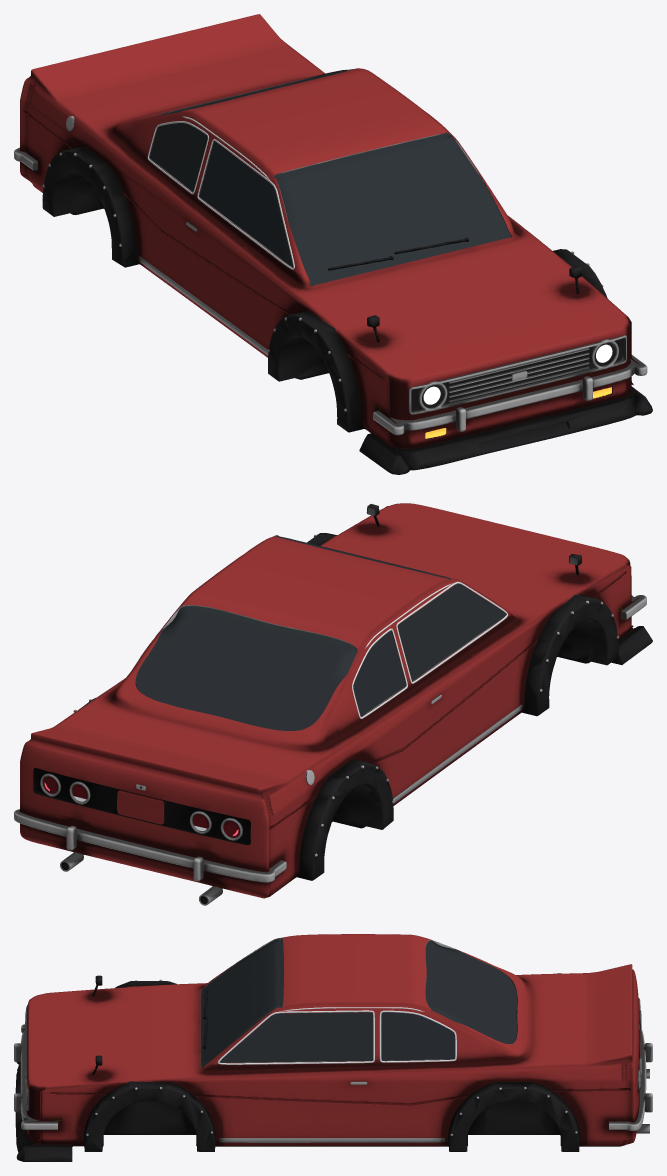
Rendered from kaido.glb.
3 views of the same model, one above another, from view 1: azimuth 30°, elevation 25°; view 2: azimuth 150°, elevation 25°; view 3: azimuth 270°, elevation 25° (orthographic). The views are drawn at different scales.
Parts seen in each view (by area): view 1: paint, window, trim, chrome (×2), grille; view 2: paint, window, trim, chrome (×2), tail; view 3: paint, window, trim, chrome (×2).
Part boxes in pixels (x1,y1,x2,y2): paint: [20, 14, 639, 450]; window: [149, 70, 511, 285]; trim: [42, 146, 652, 474]; chrome (×2): [14, 69, 647, 435]; grille: [411, 338, 622, 451]; paint: [19, 503, 639, 897]; window: [136, 536, 506, 730]; trim: [33, 504, 652, 898]; chrome (×2): [14, 507, 646, 905]; tail: [43, 776, 239, 837]; paint: [26, 934, 640, 1145]; window: [201, 939, 516, 1068]; trim: [15, 975, 639, 1161]; chrome (×2): [14, 938, 652, 1142].
Size of what is drawn, in the model's own units: 1.82 by 1.11 by 4.52.
